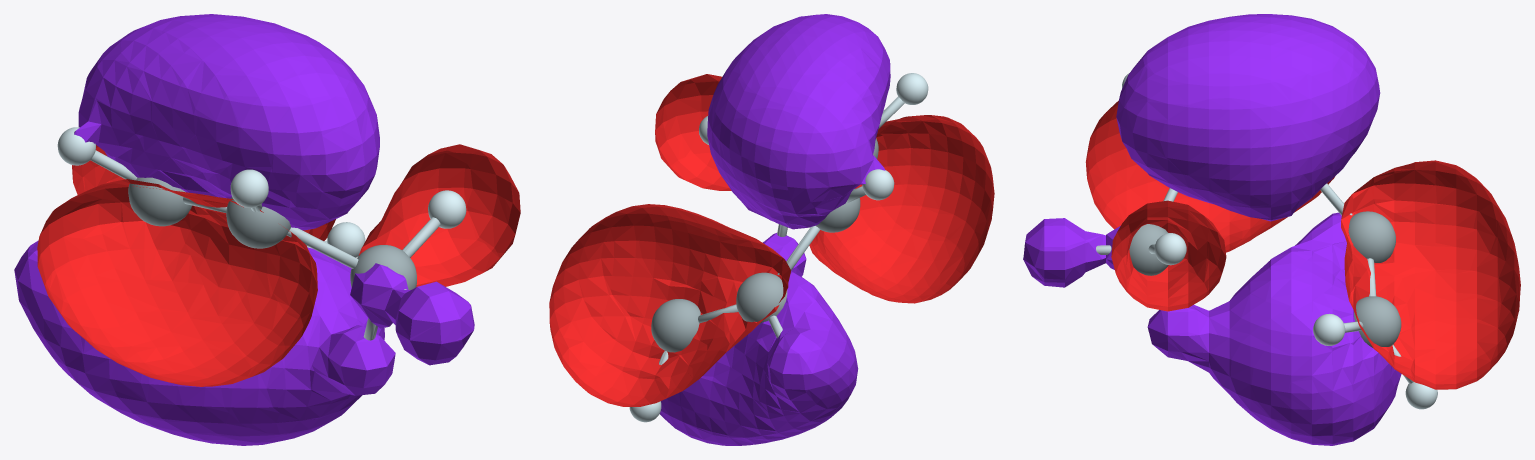
3 views of the same model, side by side, from view 1: azimuth 30°, elevation 25°; view 2: azimuth 150°, elevation 25°; view 3: azimuth 270°, elevation 25° (orthographic). The views are drawn at different scales.
Visible parts, largest first — view 1: Renderer Node; view 2: Renderer Node; view 3: Renderer Node.
Part boxes in pixels (<box>): Renderer Node: <box>14,14,520,445</box>; Renderer Node: <box>549,14,994,445</box>; Renderer Node: <box>1023,14,1520,445</box>.
Size of the model in its own units: 4.94 by 5.24 by 6.17.
